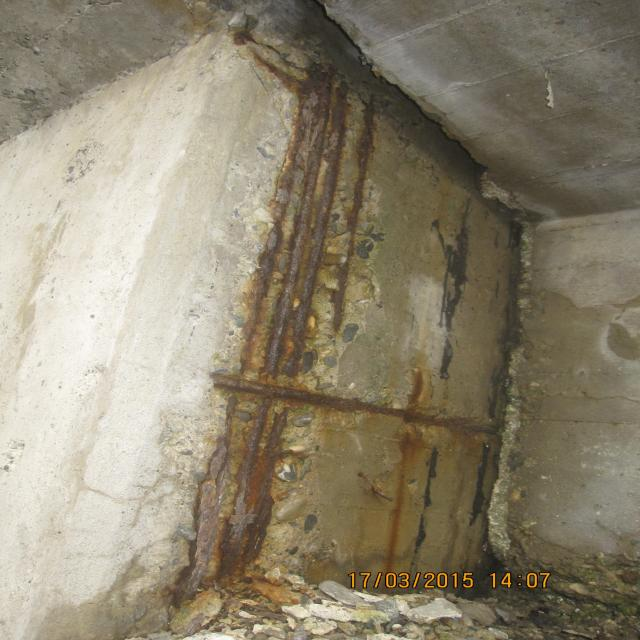corrosion: (154, 8, 541, 620)
